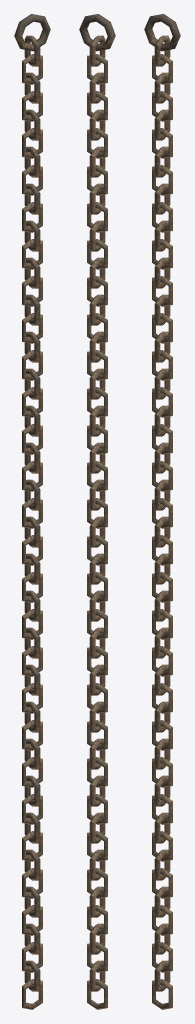
3 views of the same model, side by side, from view 1: azimuth 30°, elevation 25°; view 2: azimuth 150°, elevation 25°; view 3: azimuth 330°, elevation 25° (orthographic).
Visible parts, largest first — view 1: SM_DR_CeilingChain_Str_8m_LOD0; view 2: SM_DR_CeilingChain_Str_8m_LOD0; view 3: SM_DR_CeilingChain_Str_8m_LOD0.
Part boxes in pixels (x1,y1,x2,y2): SM_DR_CeilingChain_Str_8m_LOD0: [14, 14, 50, 1009]; SM_DR_CeilingChain_Str_8m_LOD0: [79, 14, 115, 1009]; SM_DR_CeilingChain_Str_8m_LOD0: [144, 14, 180, 1009].
Bounding box in the file's own units: 0.3156 × 8.43 × 0.1864.
1 material, 1 textured.
